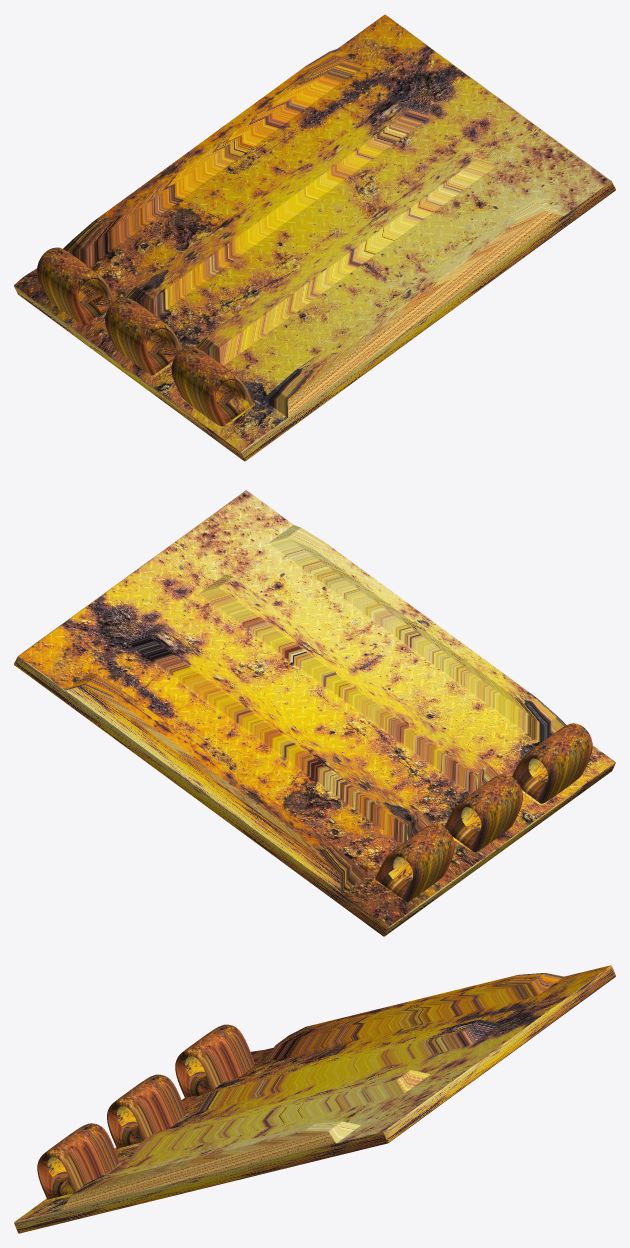
The model's file is puertader.obj.
3 renders of one model, top to bottom at view 1: azimuth 30°, elevation 25°; view 2: azimuth 150°, elevation 25°; view 3: azimuth 330°, elevation 25°, orthographic.
Visible parts, largest first — view 1: Box002; view 2: Box002; view 3: Box002.
Part boxes in pixels (bbox=[...]): Box002: bbox=[14, 14, 615, 461]; Box002: bbox=[14, 490, 615, 936]; Box002: bbox=[14, 965, 615, 1233].
Bounding box in the file's own units: 31.89 × 15.45 × 33.25.
1 material, 1 textured.
